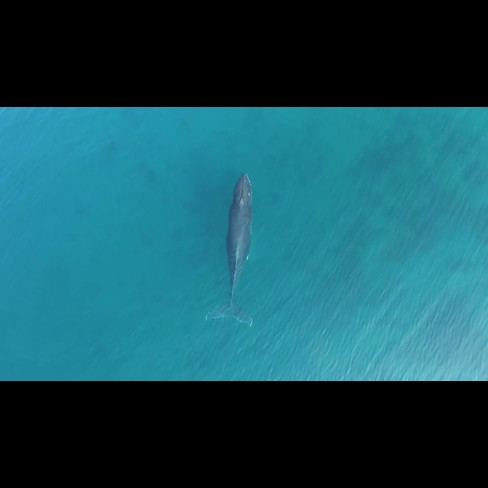hump: (200, 167, 260, 337)
